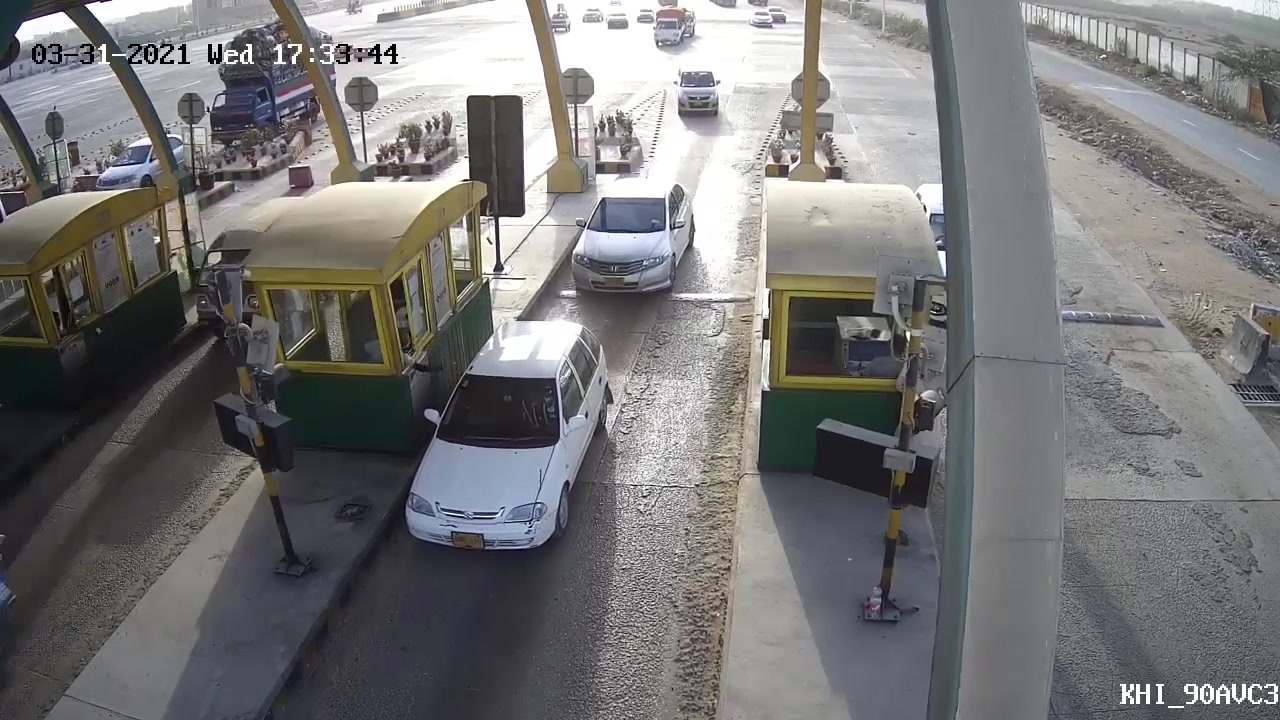F1: (377, 318, 616, 575)
